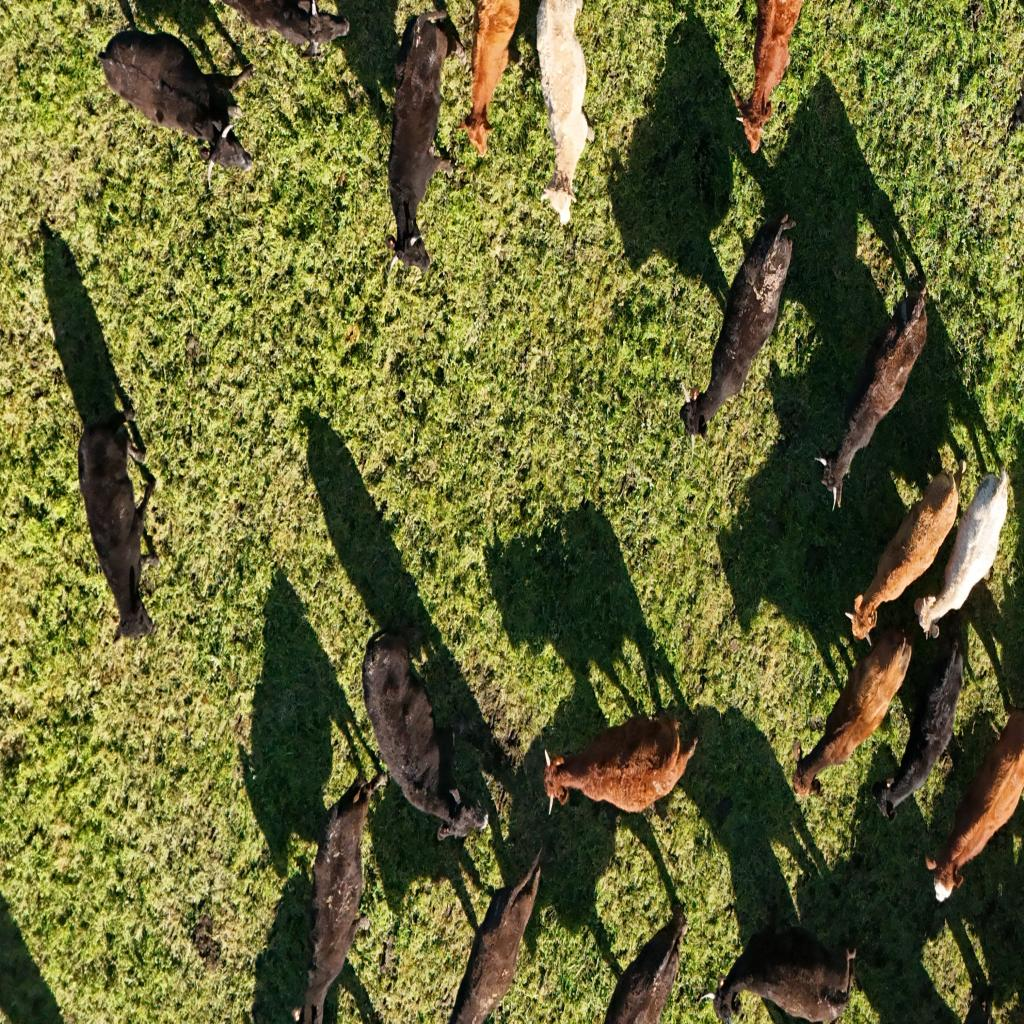cow: (96, 18, 259, 190), (812, 282, 931, 512), (361, 630, 487, 838), (687, 206, 785, 451), (383, 10, 462, 282), (293, 770, 377, 1024), (788, 624, 907, 798), (842, 468, 959, 636), (926, 708, 1024, 904), (78, 413, 162, 639), (444, 843, 548, 1022), (869, 631, 965, 819), (914, 463, 1010, 637), (540, 713, 688, 816), (534, 2, 593, 230), (715, 922, 847, 1023), (731, 3, 807, 159), (454, 2, 522, 159), (597, 902, 684, 1023), (218, 0, 353, 63)
